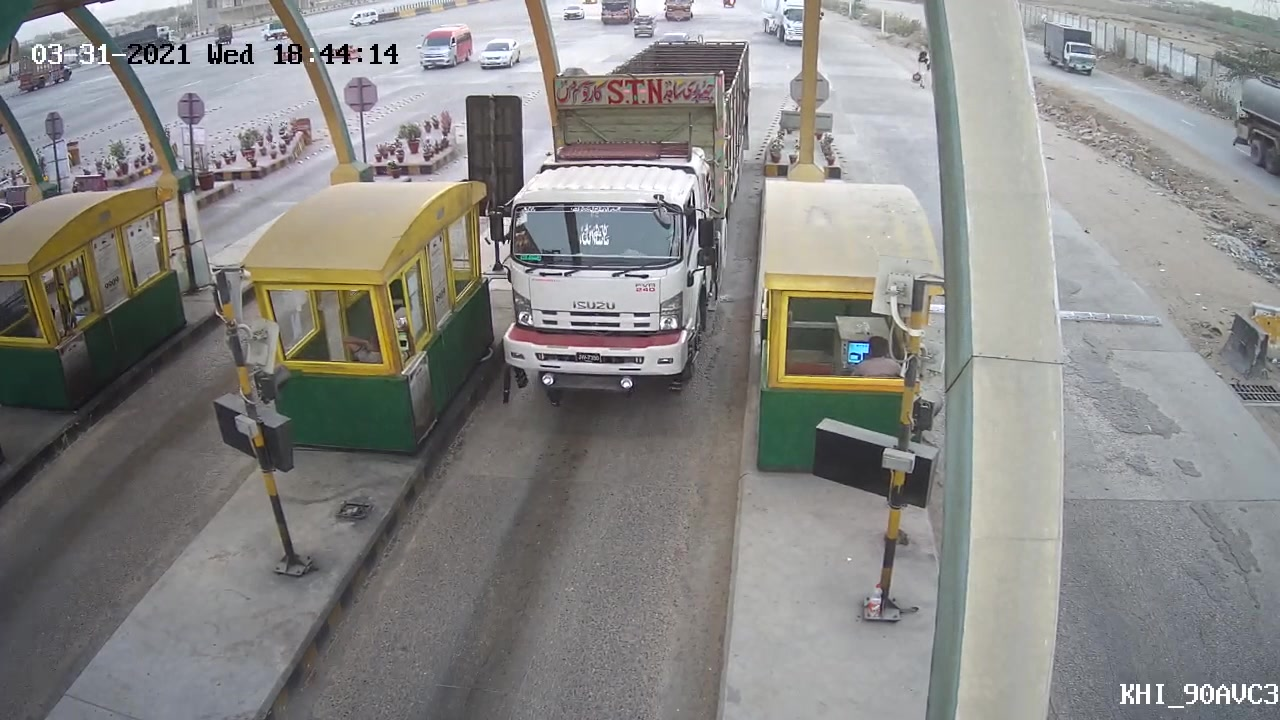F5: (484, 36, 757, 406)
